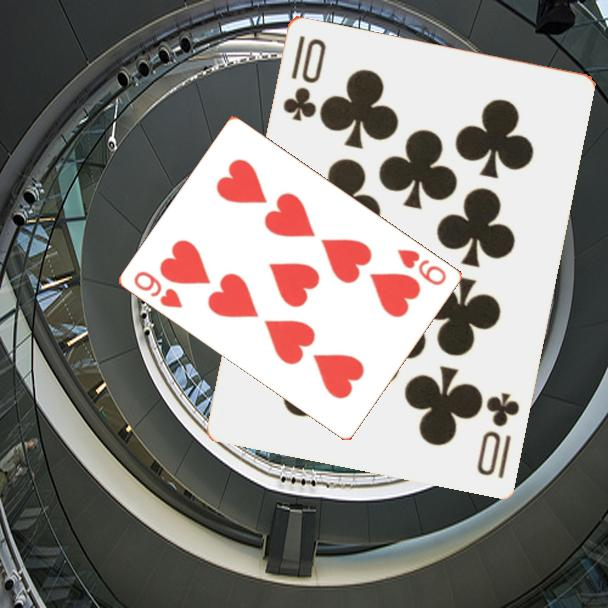c10: (279, 31, 329, 124), (473, 388, 522, 481)
h09: (131, 267, 186, 311), (394, 245, 450, 288)
